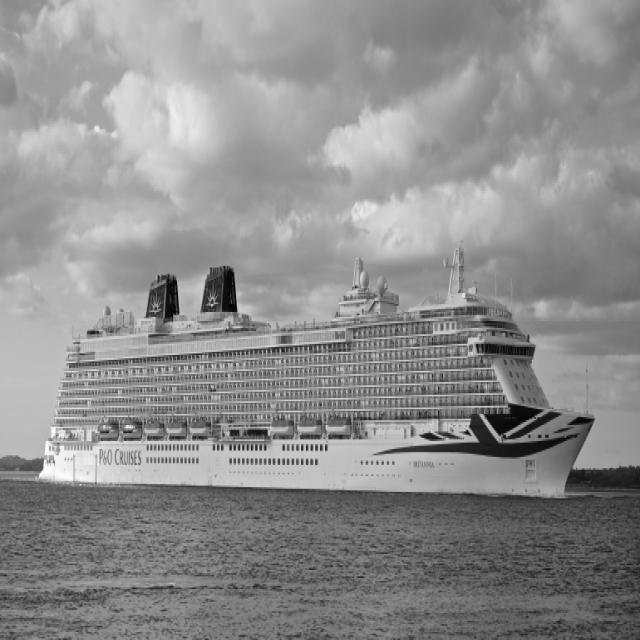cruises: (41, 244, 599, 509)
